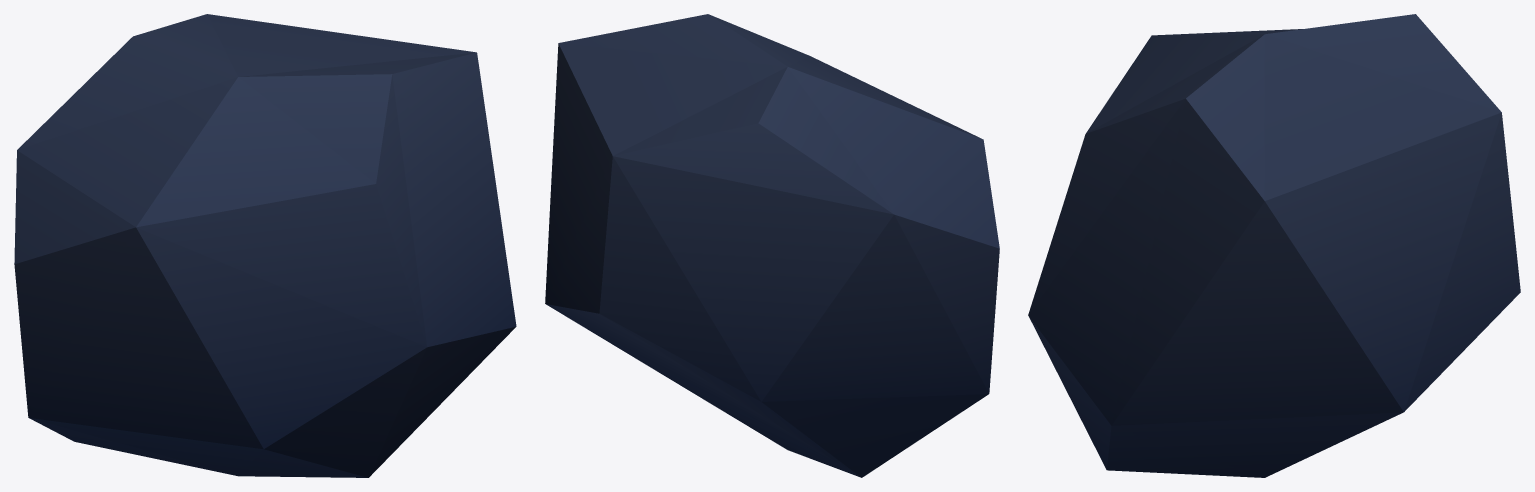
Rendered from Rock_1.glb.
3 renders of one model, left to right at view 1: azimuth 30°, elevation 25°; view 2: azimuth 150°, elevation 25°; view 3: azimuth 270°, elevation 25°, orthographic. The views are drawn at different scales.
Parts seen in each view (by area): view 1: lamplighter__Rock_1__stone; view 2: lamplighter__Rock_1__stone; view 3: lamplighter__Rock_1__stone.
Part boxes in pixels (box(x1,y1,x2,y2)): lamplighter__Rock_1__stone: box(14, 14, 516, 477); lamplighter__Rock_1__stone: box(545, 14, 999, 477); lamplighter__Rock_1__stone: box(1028, 14, 1520, 477).
Size of the model in its own units: 0.32 by 0.2647 by 0.2664.
